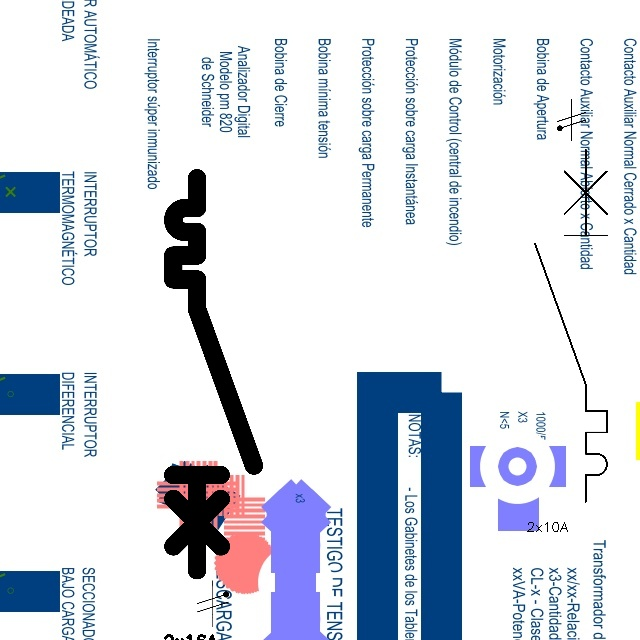interruptor_termomagnetico: (163, 168, 264, 580), (526, 140, 616, 510)
